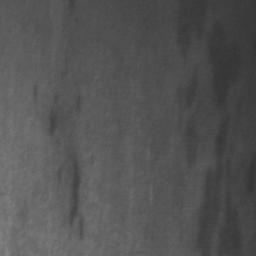Inclusion: (198, 119, 242, 256), (207, 24, 241, 108), (177, 0, 207, 60), (70, 163, 82, 225)
